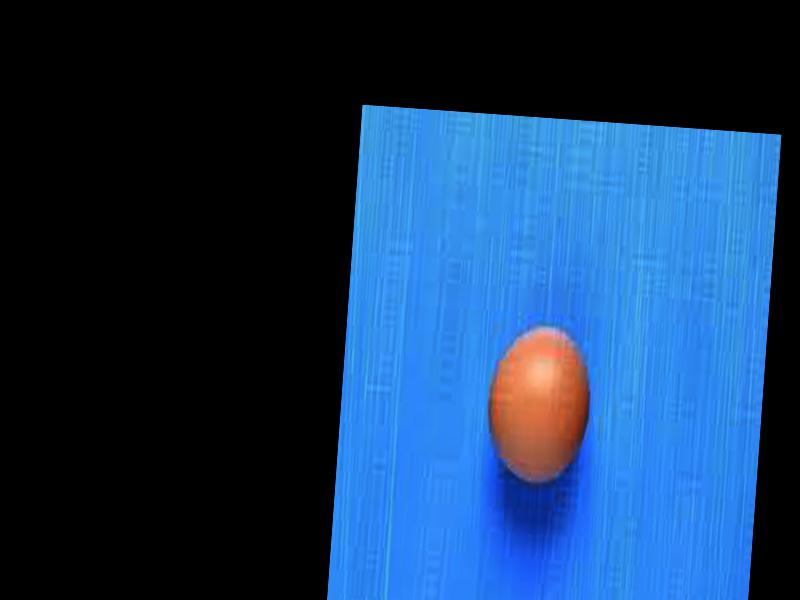Eggs: (483, 320, 594, 492)
